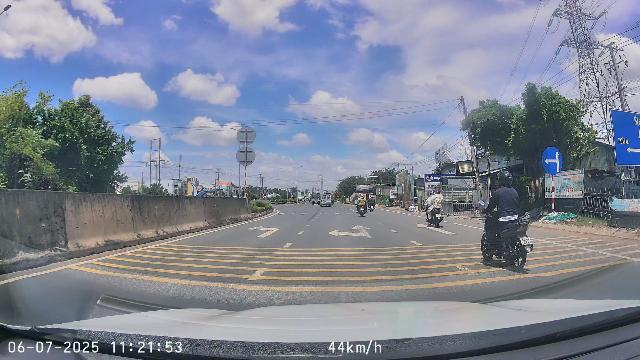301h-cac-xe-chi-duoc-di-thang-va-re-trai: (542, 146, 563, 175)
